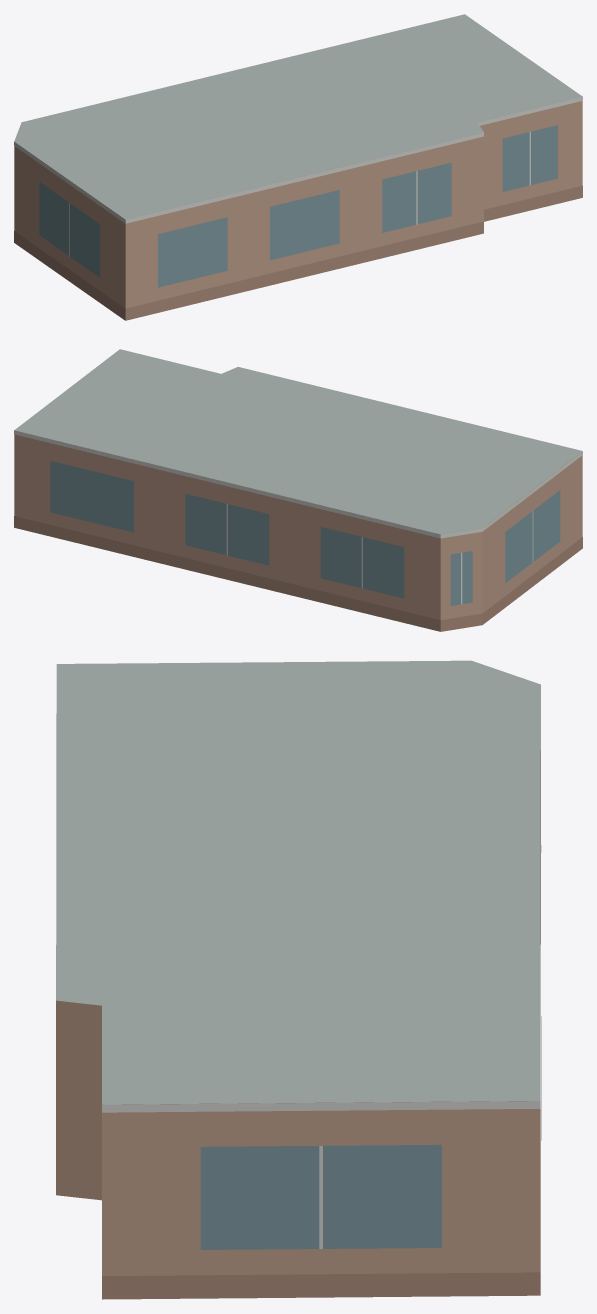
The model's file is survey-upis-32633415.glb.
3 views of the same model, one above another, from view 1: azimuth 30°, elevation 25°; view 2: azimuth 150°, elevation 25°; view 3: azimuth 270°, elevation 25° (orthographic). The views are drawn at different scales.
Visible parts, largest first — view 1: survey-upis-32633415.tmp; view 2: survey-upis-32633415.tmp; view 3: survey-upis-32633415.tmp.
Part boxes in pixels (x1,y1,x2,y2): survey-upis-32633415.tmp: (14, 14, 582, 320); survey-upis-32633415.tmp: (14, 349, 582, 631); survey-upis-32633415.tmp: (56, 660, 541, 1299).
Bounding box in the file's own units: 14.93 × 3.05 × 6.9.
